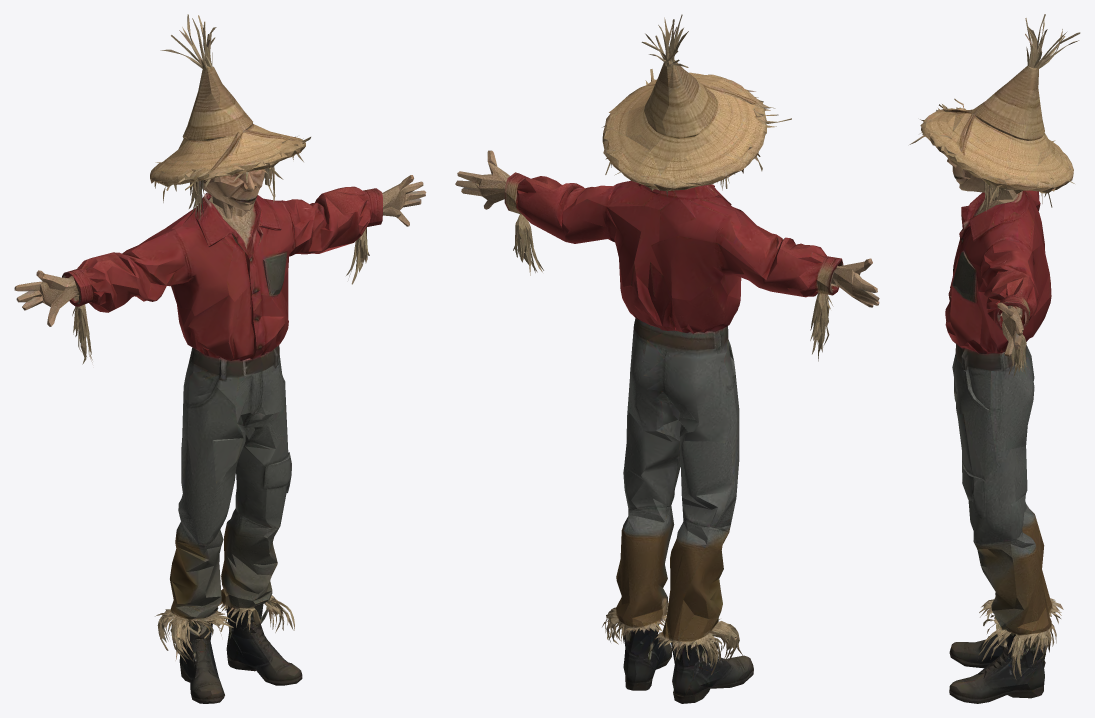
Rendered from scarecrow.glb.
The picture shows the model from 3 angles, left to right: view 1: azimuth 30°, elevation 25°; view 2: azimuth 150°, elevation 25°; view 3: azimuth 270°, elevation 25°; orthographic projection. The views are drawn at different scales.
Visible parts, largest first — view 1: output_unwrapped; view 2: output_unwrapped; view 3: output_unwrapped.
Part boxes in pixels (x1=…): output_unwrapped: x1=14, y1=14, x2=426, y2=703; output_unwrapped: x1=455, y1=14, x2=879, y2=703; output_unwrapped: x1=909, y1=14, x2=1080, y2=703.
Size of the model in its own units: 1.24 by 1.9 by 0.4497.
1 material, 1 textured.
